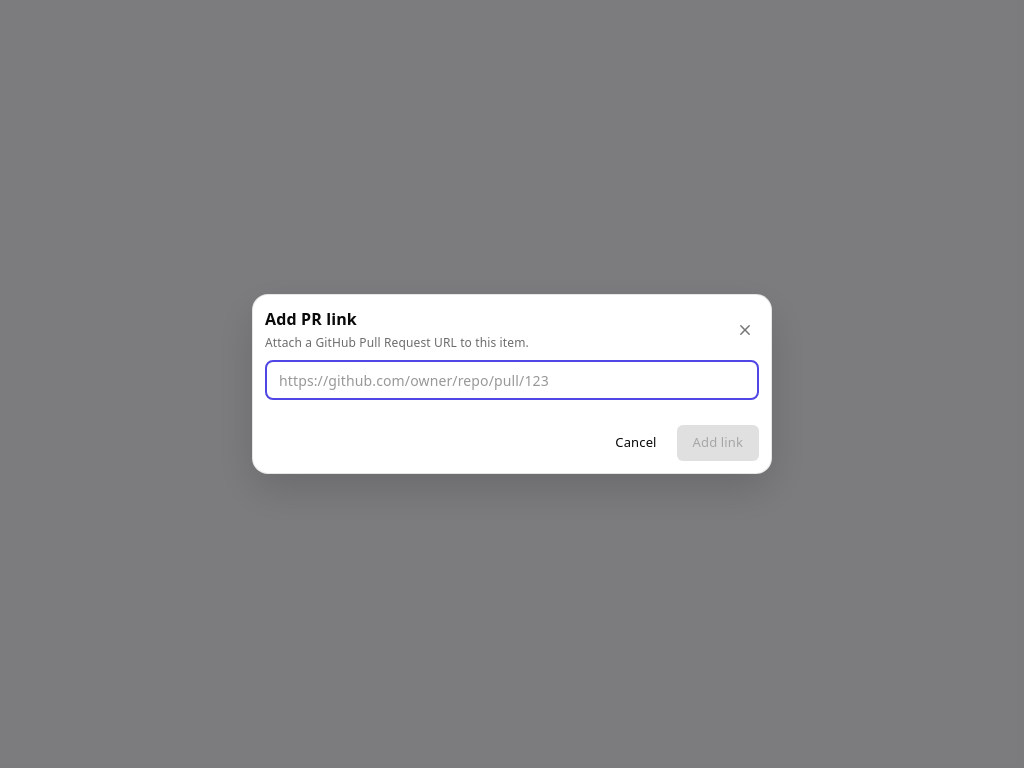
Test case: AddPrLinkDialog › rejects a non-GitHub-PR URL with an inline error and does NOT hit the API
Type "https://gitlab.com/foo/bar/-/merge_requests/1" into the field named "GitHub PR URL".
click(512, 380); type("https://gitlab.com/foo/bar/-/merge_requests/1")  # box [265,360,759,400]
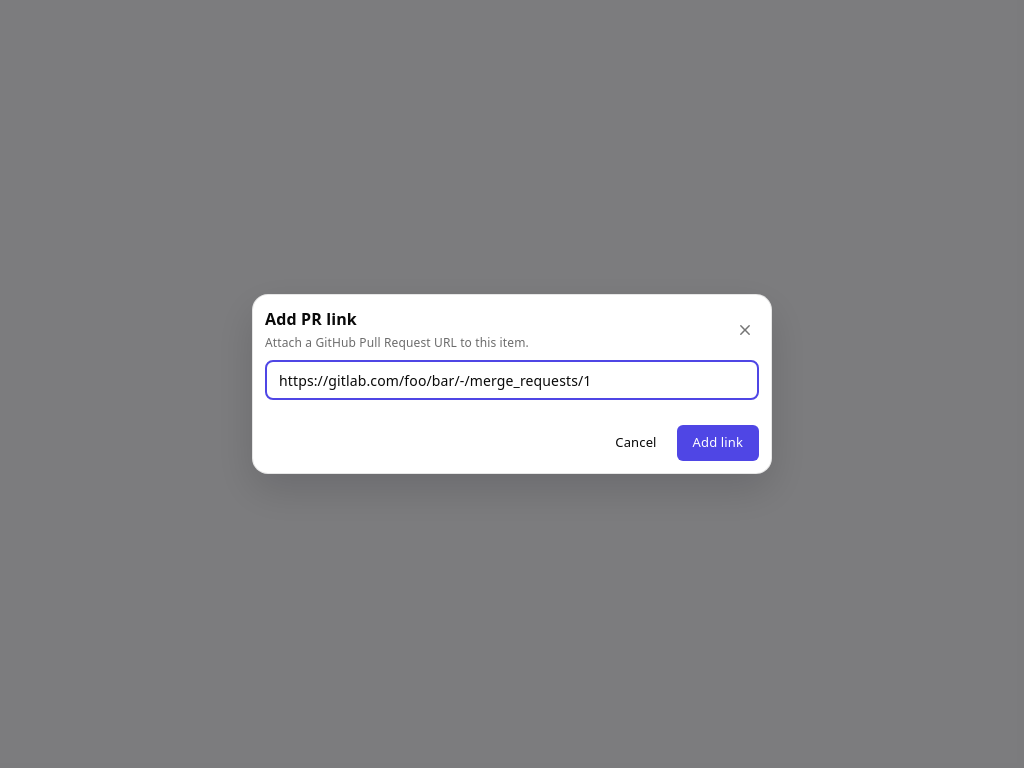
Click the button "Add link".
click(718, 443)  # box [677,425,759,461]
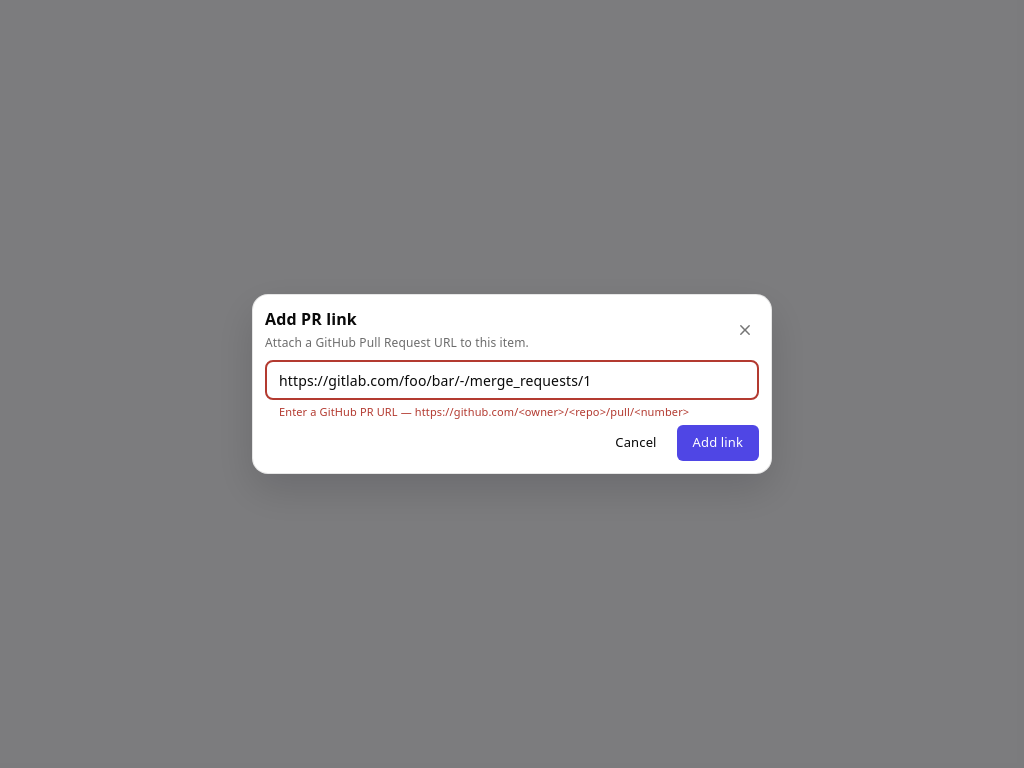
Now the text "GitHub PR URL" is shown, box [279,404,689,419]
